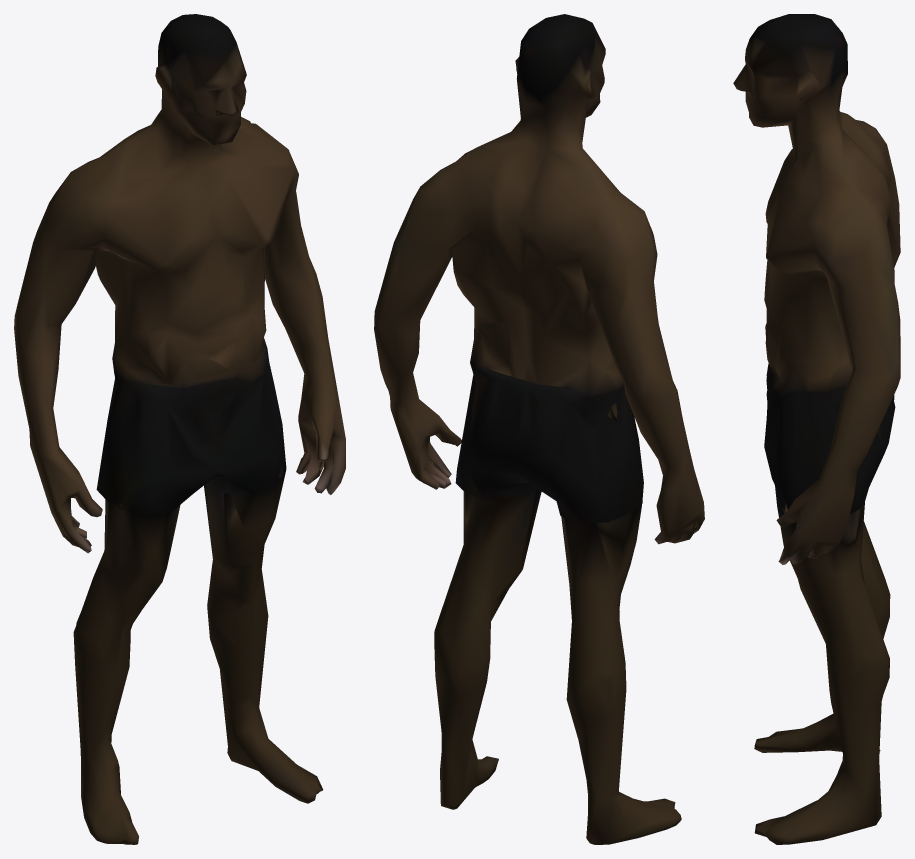
The model's file is 3d_female_model_LOD2.glb.
The picture shows the model from 3 angles, left to right: view 1: azimuth 30°, elevation 25°; view 2: azimuth 150°, elevation 25°; view 3: azimuth 270°, elevation 25°; orthographic projection.
Visible parts, largest first — view 1: geometry_0; view 2: geometry_0; view 3: geometry_0.
Part boxes in pixels (bbox=[...]): geometry_0: bbox=[14, 14, 345, 844]; geometry_0: bbox=[374, 14, 704, 844]; geometry_0: bbox=[733, 14, 900, 844].
Size of the model in its own units: 0.3963 by 0.9996 by 0.1957.
